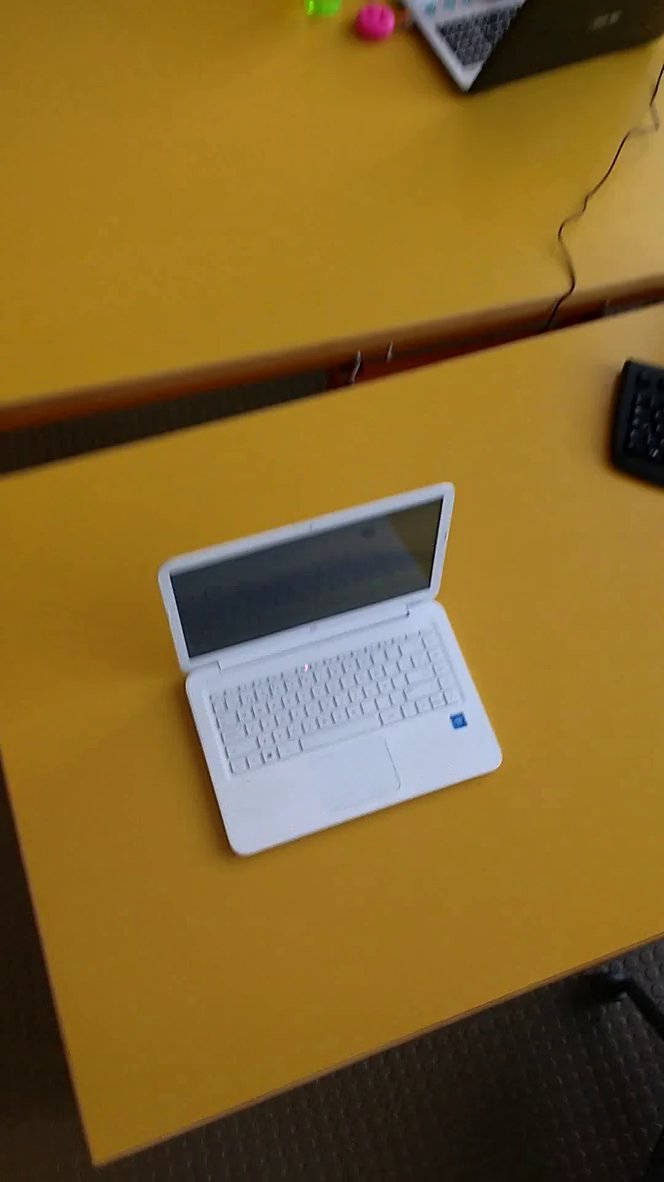laptop: (149, 474, 508, 869)
